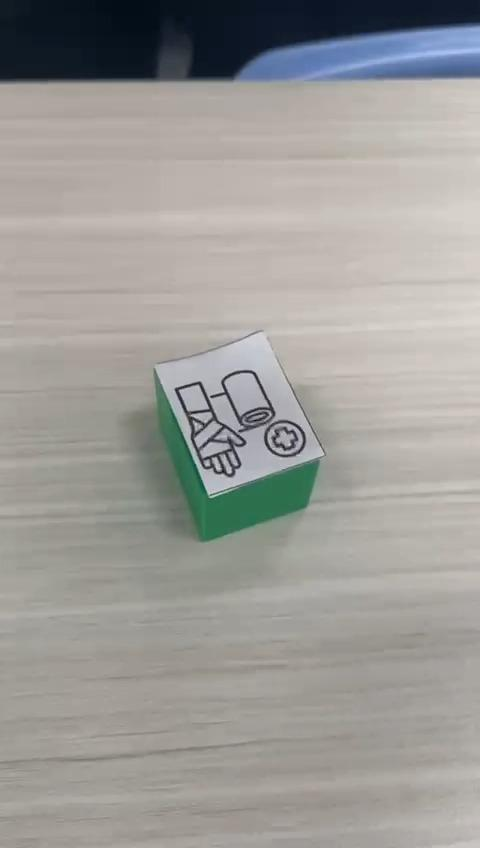Bandages: (154, 330, 328, 543)
